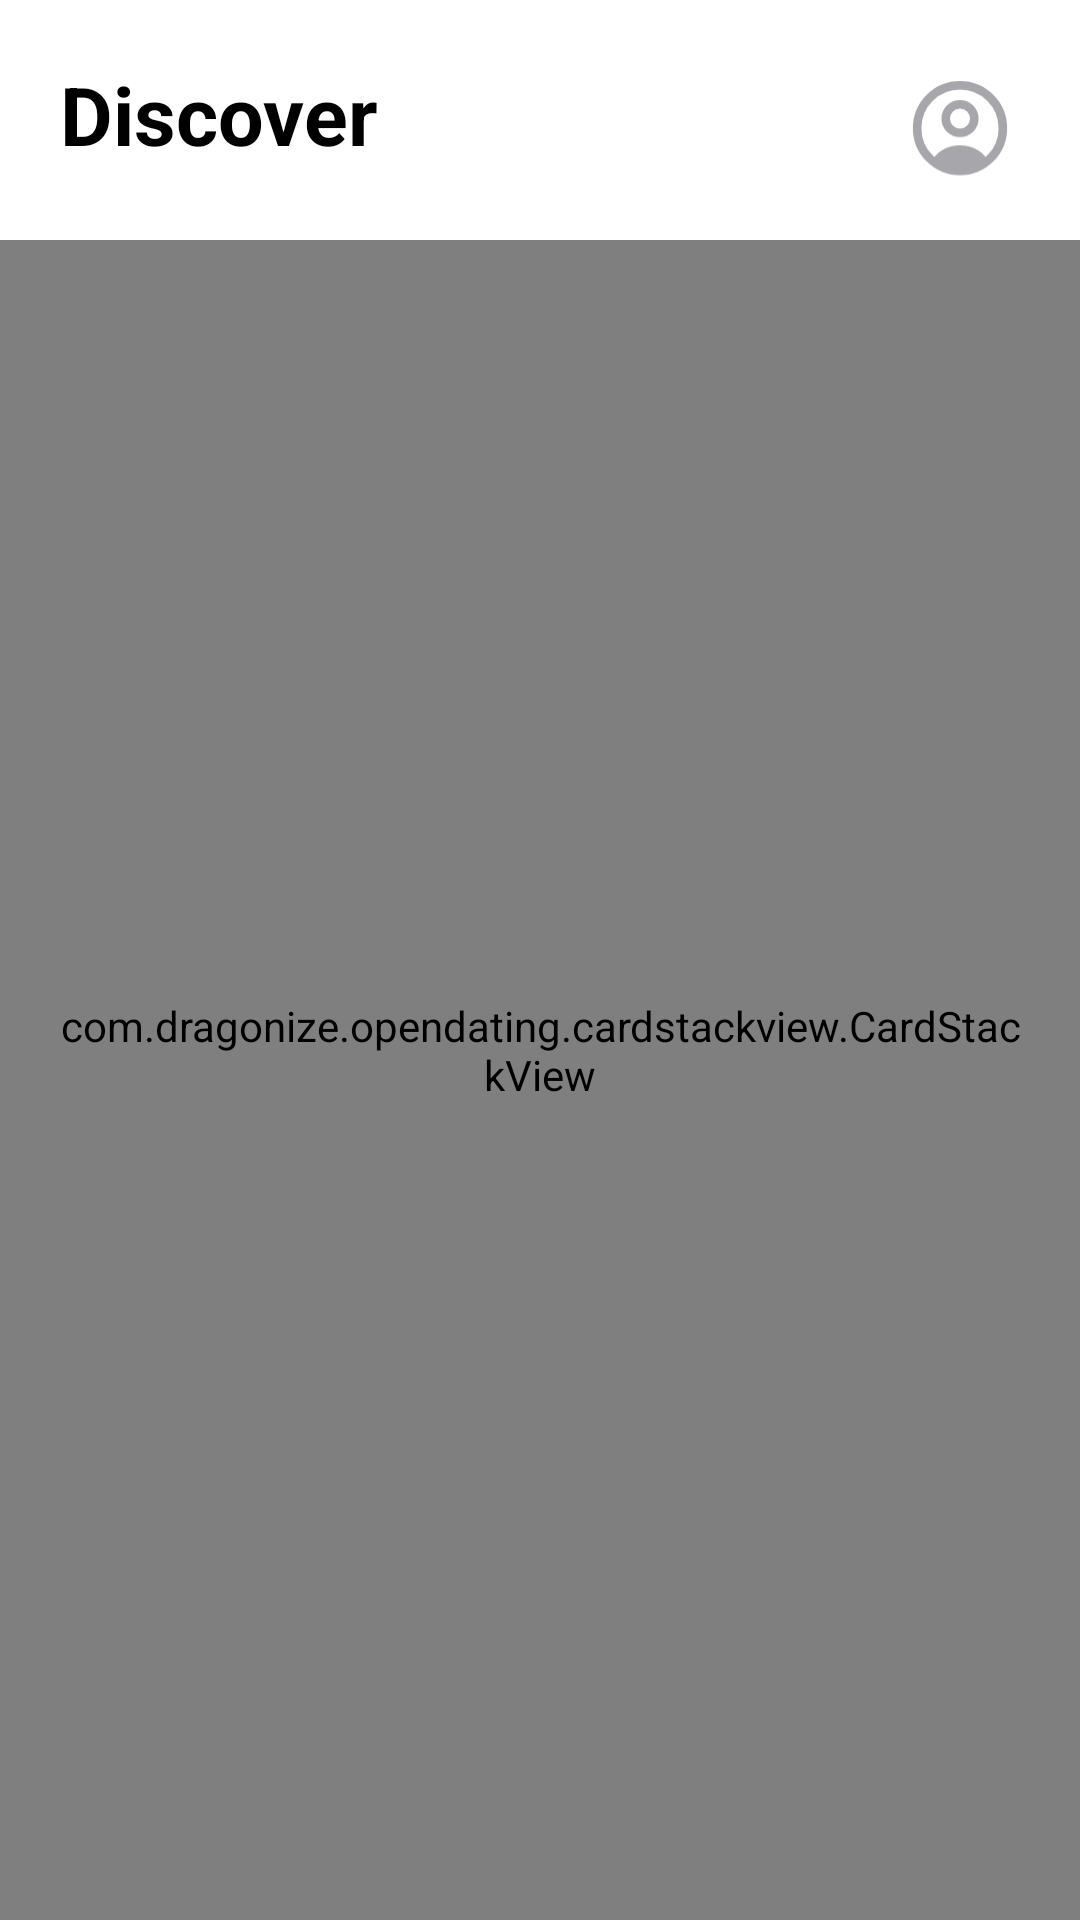

Where icons sit on this 1080 x 1920 app screen, as (x1, y1, x2, y2):
user: (913, 81, 1007, 176)
